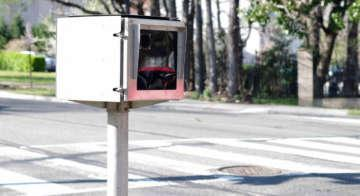Monitor: (55, 14, 186, 108)
